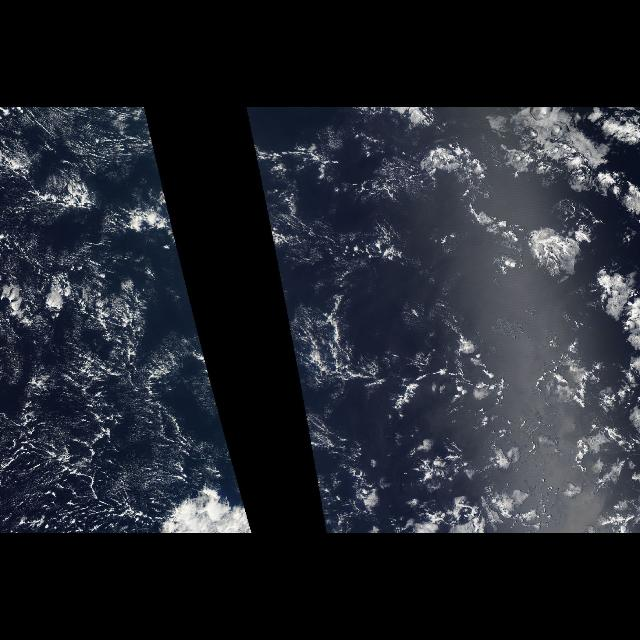Sugar: (1, 107, 228, 491)
